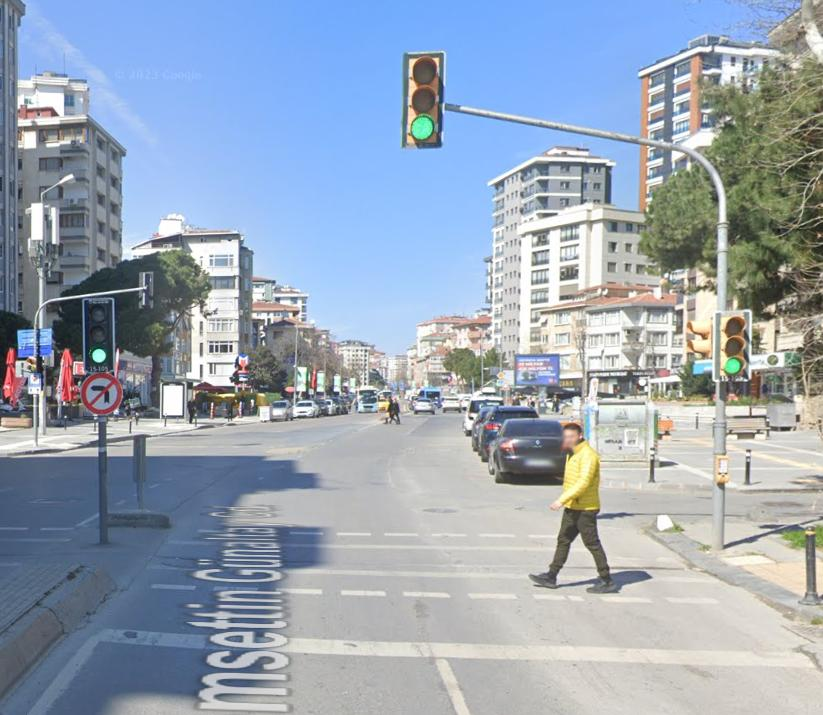greenlight: (405, 49, 445, 149), (81, 296, 118, 372), (719, 313, 749, 381)
leftturnsareforbidden: (79, 374, 121, 416)
